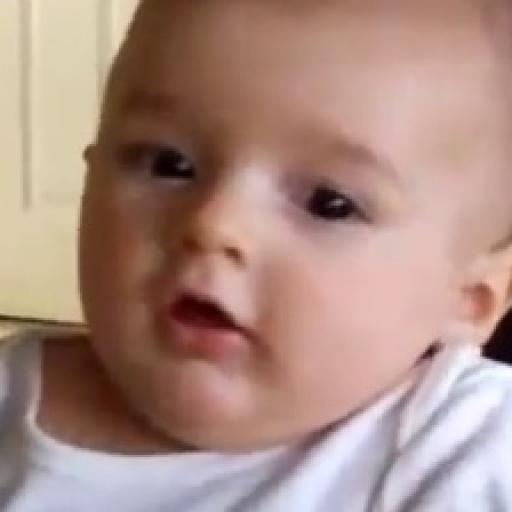Autism: (90, 17, 512, 486)
